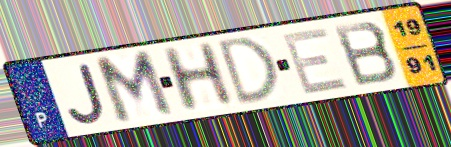B: (330, 19, 401, 89)
D: (216, 34, 284, 109)
E: (278, 24, 352, 97)
H: (157, 39, 239, 116)
J: (64, 61, 109, 127)
M: (91, 47, 179, 128)
